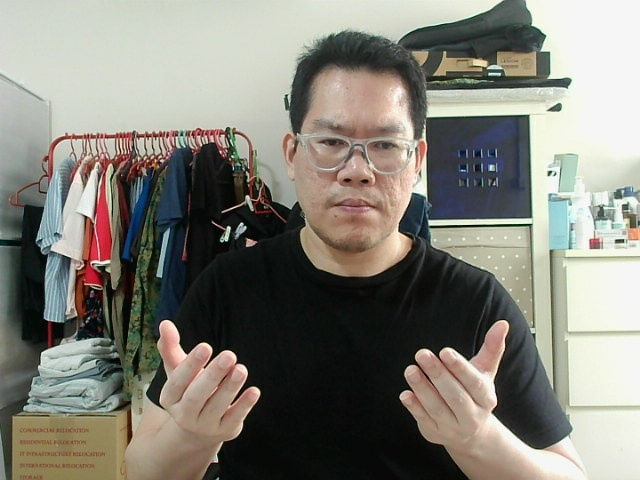want: (407, 326, 499, 441)
